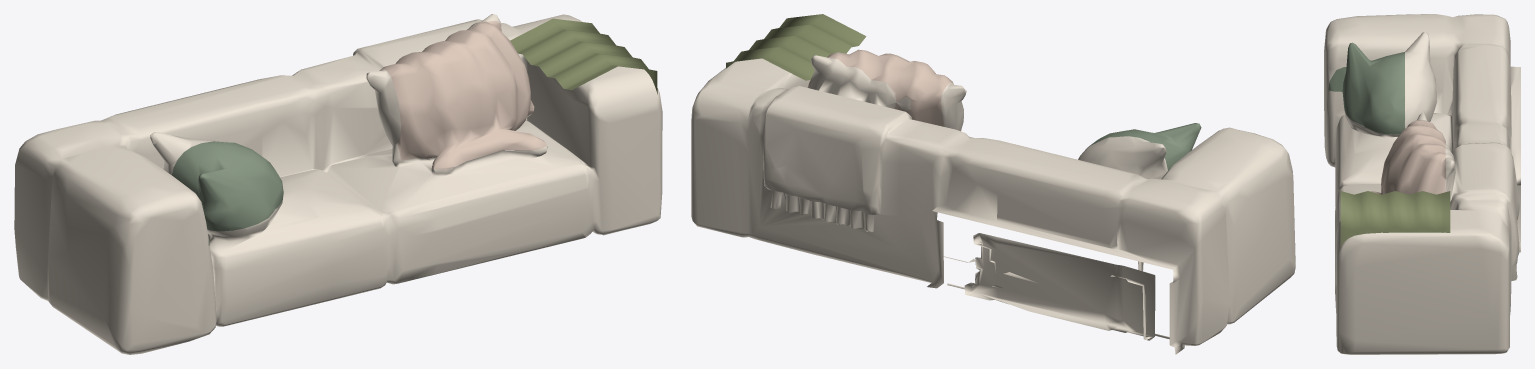
Rendered from living_ref_sofa.glb.
3 renders of one model, left to right at view 1: azimuth 30°, elevation 25°; view 2: azimuth 150°, elevation 25°; view 3: azimuth 270°, elevation 25°, orthographic. The views are drawn at different scales.
Size of the model in its own units: 3.7 by 1.2 by 1.35.
